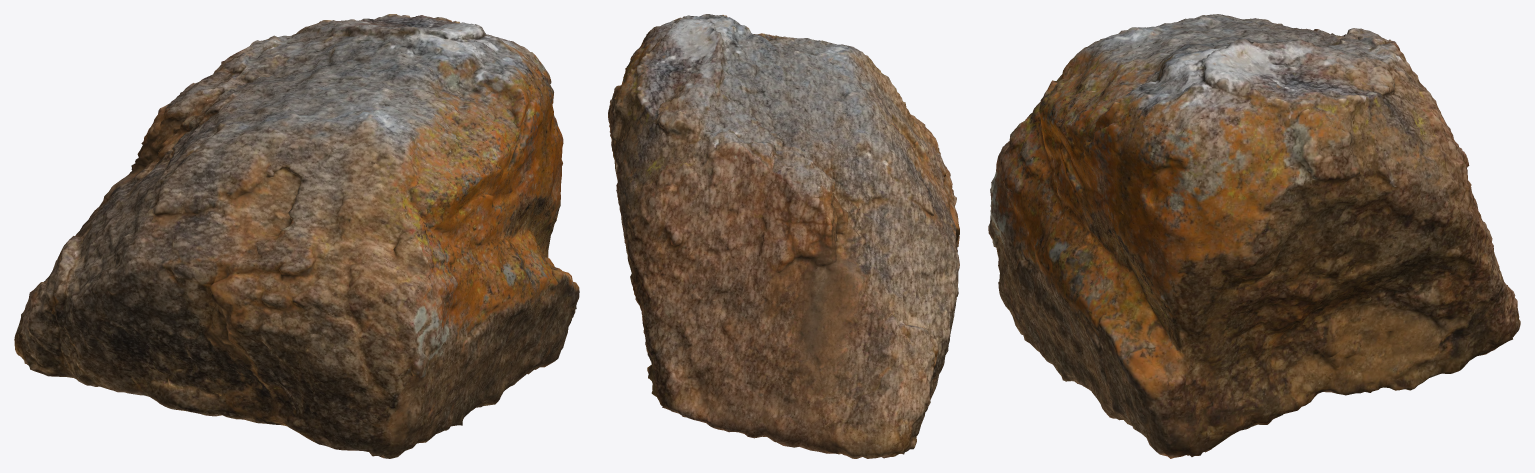
File: rock_03.glb
3 views of the same model, side by side, from view 1: azimuth 30°, elevation 25°; view 2: azimuth 150°, elevation 25°; view 3: azimuth 270°, elevation 25° (orthographic). The views are drawn at different scales.
Visible parts, largest first — view 1: boulder_04; view 2: boulder_04; view 3: boulder_04.
Part boxes in pixels (x1,y1,x2,y2): boulder_04: (14, 14, 579, 458); boulder_04: (608, 14, 959, 458); boulder_04: (988, 14, 1520, 458).
Bounding box in the file's own units: 2.52 × 1.9 × 2.5.
1 material, 1 textured.
